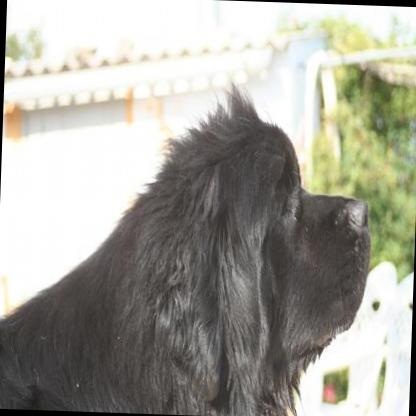Newfoundland: (0, 70, 378, 416)
